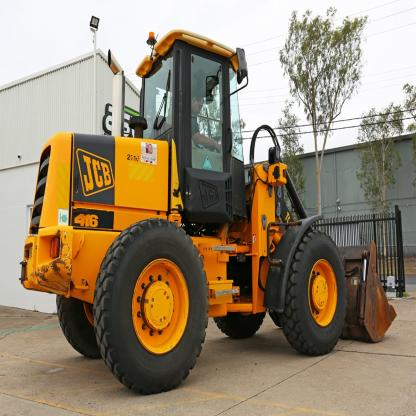bull_dozer/loader/grader: (18, 17, 403, 387)
